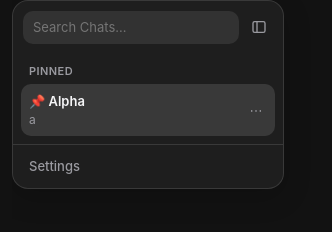
Test: Sidebar actions › shows Unpin when chat is pinned
Click the button titled "Actions": (256, 110) x1=245 y1=100 x2=267 y2=120
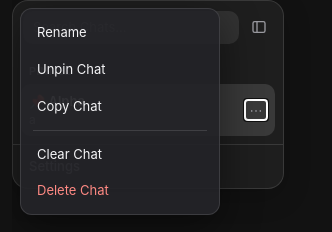
Check: the button "Unpin Chat" is shown, box x1=27 y1=52 x2=213 y2=87
